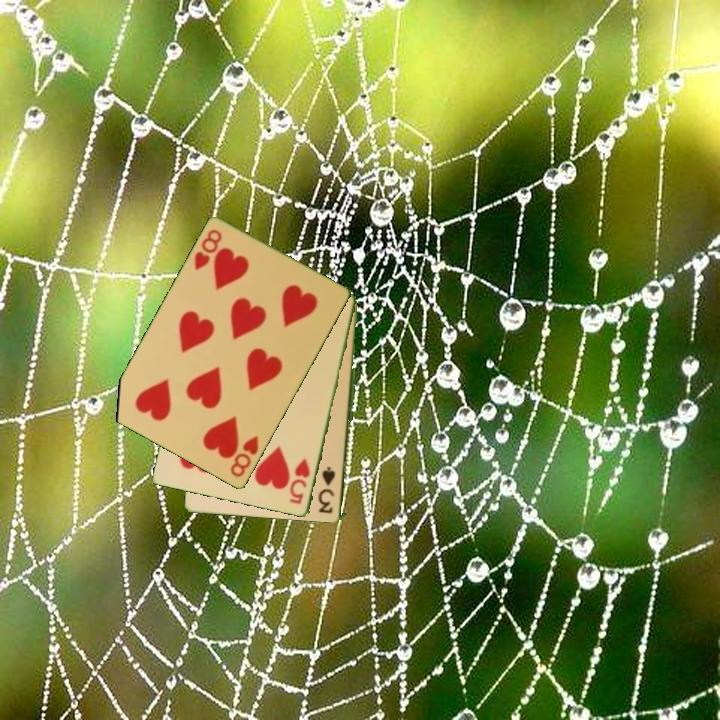3s: (319, 463, 339, 517)
5h: (287, 455, 313, 507)
8h: (227, 433, 262, 481), (191, 226, 225, 274)
